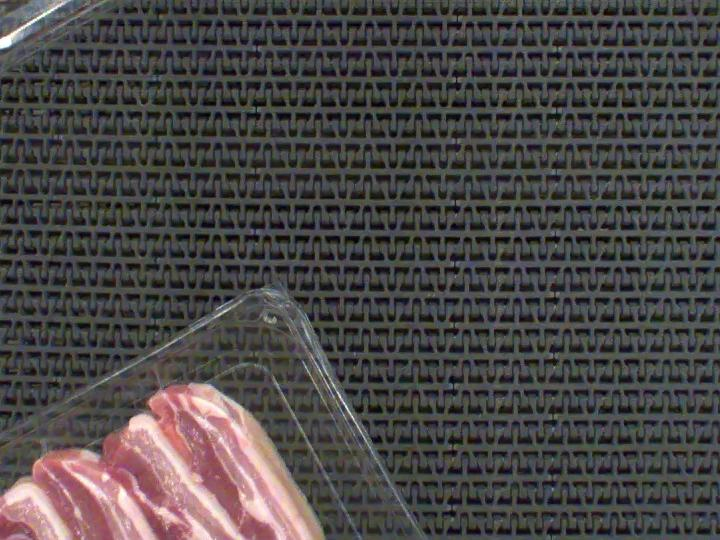packaging-error: (28, 434, 62, 459), (143, 363, 168, 394)
